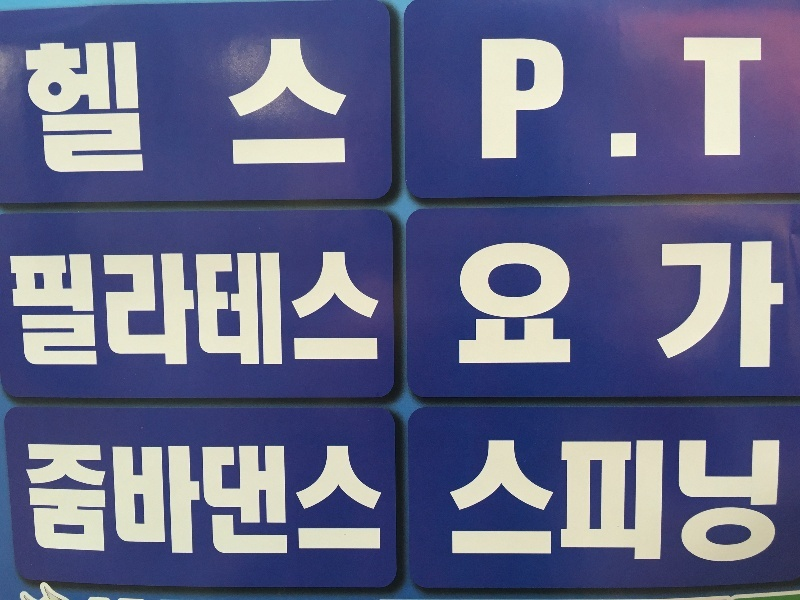text: (769, 238, 785, 372), (33, 38, 48, 177), (49, 38, 64, 177), (65, 38, 80, 177), (81, 38, 96, 177), (97, 38, 112, 177), (113, 38, 128, 177), (129, 38, 144, 177), (145, 38, 160, 177), (161, 38, 176, 177), (177, 38, 192, 177), (193, 38, 208, 177), (209, 38, 224, 177), (225, 38, 240, 177), (241, 38, 256, 177), (257, 38, 272, 177), (273, 38, 288, 177), (289, 38, 304, 177), (305, 38, 320, 177), (321, 38, 336, 177), (465, 238, 480, 372), (481, 238, 496, 372), (497, 238, 512, 372), (513, 238, 528, 372), (529, 238, 544, 372), (545, 238, 560, 372), (561, 238, 576, 372), (577, 238, 592, 372), (593, 238, 608, 372), (609, 238, 624, 372), (625, 238, 640, 372), (641, 238, 656, 372), (657, 238, 672, 372), (673, 238, 688, 372), (689, 238, 704, 372), (705, 238, 720, 372), (721, 238, 736, 372), (737, 238, 752, 372), (753, 238, 768, 372), (481, 34, 496, 163), (497, 34, 512, 163), (513, 34, 528, 163), (529, 34, 544, 163), (545, 34, 560, 163), (561, 34, 576, 163), (577, 34, 592, 163), (593, 34, 608, 163), (609, 34, 624, 163), (625, 34, 640, 163), (641, 34, 656, 163), (657, 34, 672, 163), (673, 34, 688, 163), (689, 34, 704, 163), (705, 34, 720, 163), (721, 34, 736, 163), (737, 34, 752, 163), (449, 438, 464, 566), (465, 438, 480, 566), (481, 438, 496, 566), (497, 438, 512, 566), (513, 438, 528, 566), (529, 438, 544, 566), (545, 438, 560, 566), (561, 438, 576, 566), (577, 438, 592, 566), (593, 438, 608, 566), (609, 438, 624, 566), (625, 438, 640, 566), (641, 438, 656, 566), (657, 438, 672, 566), (673, 438, 688, 566), (689, 438, 704, 566), (705, 438, 720, 566), (721, 438, 736, 566), (737, 438, 752, 566), (753, 438, 768, 566), (769, 438, 784, 566), (17, 252, 32, 372), (33, 252, 48, 372), (49, 252, 64, 372), (65, 252, 80, 372), (81, 252, 96, 372), (97, 252, 112, 372), (113, 252, 128, 372), (129, 252, 144, 372), (145, 252, 160, 372), (161, 252, 176, 372), (177, 252, 192, 372), (193, 252, 208, 372), (209, 252, 224, 372), (225, 252, 240, 372), (241, 252, 256, 372), (257, 252, 272, 372), (273, 252, 288, 372), (289, 252, 304, 372), (305, 252, 320, 372), (321, 252, 336, 372), (337, 252, 352, 372), (353, 252, 368, 372), (33, 441, 48, 553), (49, 441, 64, 553), (65, 441, 80, 553), (81, 441, 96, 553), (97, 441, 112, 553), (113, 441, 128, 553), (129, 441, 144, 553), (145, 441, 160, 553), (161, 441, 176, 553), (177, 441, 192, 553), (193, 441, 208, 553), (209, 441, 224, 553), (225, 441, 240, 553), (241, 441, 256, 553), (257, 441, 272, 553), (273, 441, 288, 553), (289, 441, 304, 553), (305, 441, 320, 553), (321, 441, 336, 553), (337, 441, 352, 553), (353, 441, 368, 553), (753, 34, 766, 163), (20, 38, 32, 177), (369, 441, 383, 553), (337, 38, 347, 177), (5, 252, 16, 372), (369, 252, 380, 372), (455, 238, 464, 372), (22, 441, 32, 553)
